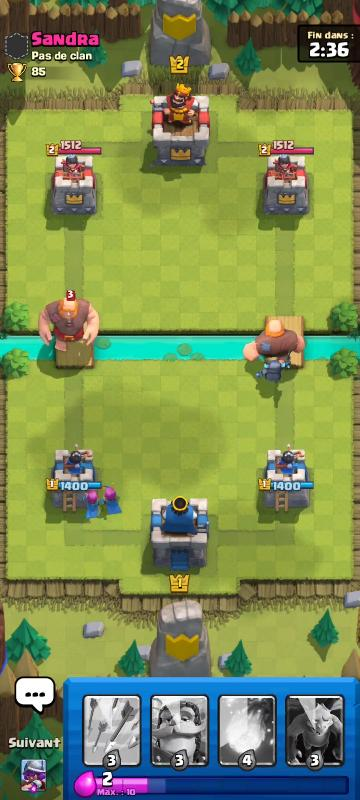archere: (83, 487, 104, 524), (102, 480, 121, 516)
geant: (243, 313, 309, 371), (44, 294, 101, 356)
mini_PEKKA: (258, 355, 290, 389)
